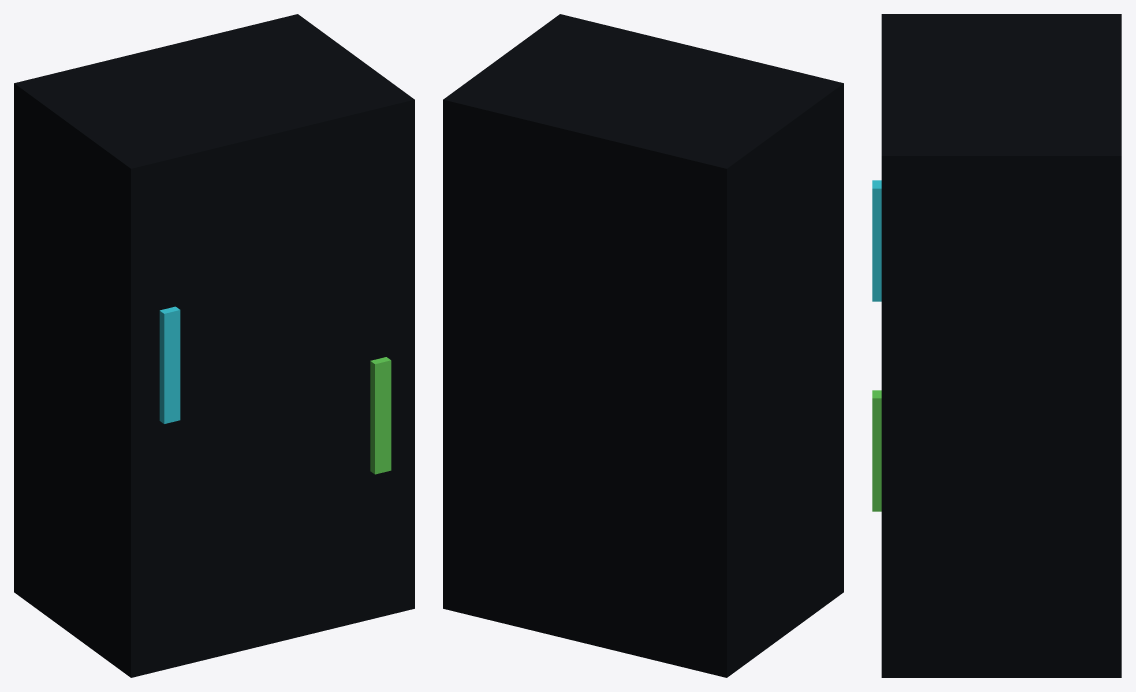
Rendered from prop.server_rack.glb.
3 renders of one model, left to right at view 1: azimuth 30°, elevation 25°; view 2: azimuth 150°, elevation 25°; view 3: azimuth 270°, elevation 25°, orthographic. The views are drawn at different scales.
Parts seen in each view (by area): view 1: rack_body, rack_lights_b, rack_lights_a; view 2: rack_body; view 3: rack_body, rack_lights_a, rack_lights_b.
Boxes of the visible parts, x1,y1,x2,y2 form: rack_body: (14,14,414,677); rack_lights_b: (370,357,391,474); rack_lights_a: (159,306,180,423); rack_body: (443,14,843,677); rack_body: (881,14,1121,677); rack_lights_a: (872,180,881,301); rack_lights_b: (872,390,881,511).
Bounding box in the file's own units: 1.4 × 2.4 × 1.04.
